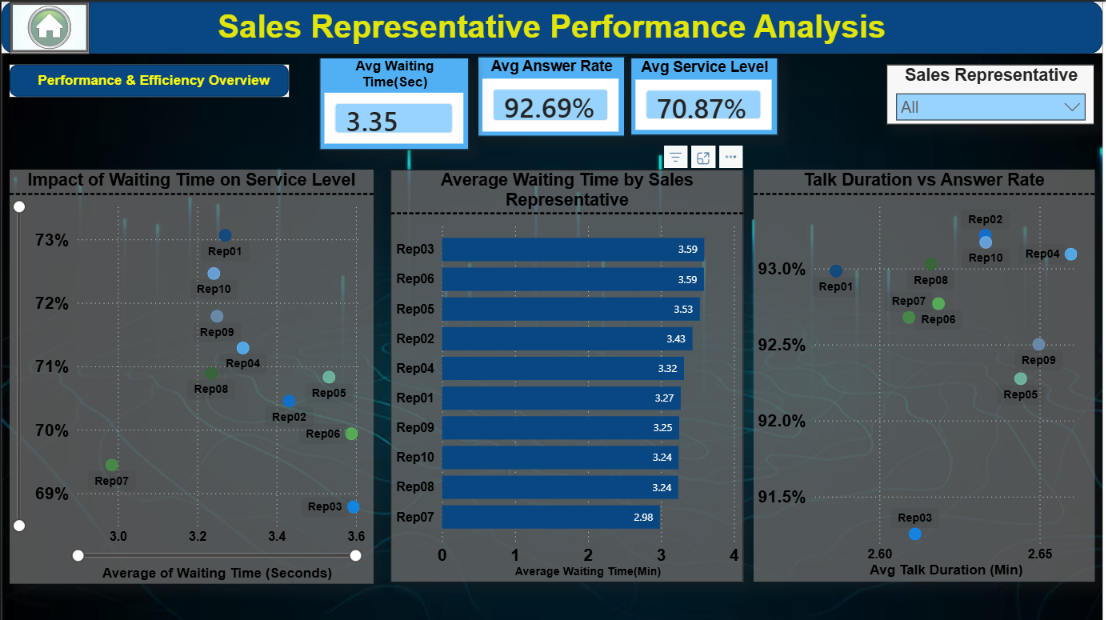

The page's visual inventory and layout, read from the dashboard file:
{"tool":"powerbi","page":{"name":"Response Analysis","canvas":[1280,720],"ordinal":4},"visuals":[{"type":"group","id":"g1","title":"Group 1","box":[0,0,1280.3,60.4],"z":0},{"type":"shape","box":[0,0,1280.3,60.4],"z":0,"group":"g1"},{"type":"shape","box":[9.3,73.3,324.4,37.2],"z":0,"group":"g2"},{"type":"textbox","box":[9.6,0,1261.1,60.4],"z":1000,"group":"g1"},{"type":"cardVisual","title":"Avg Answer Rate","fields":{"Data":["Call Center Data.Avg Answer Rate"]},"box":[553.5,64,170.9,93],"z":1000},{"type":"textbox","box":[25.2,76.1,298.5,32.6],"z":1000,"group":"g2"},{"type":"cardVisual","title":"Avg Service Level","fields":{"Data":["Call Center Data.Avg Service Level"]},"box":[731.4,65.1,170.9,90.7],"z":2000},{"type":"slicer","title":"Sales Representative","fields":{"Values":["Call Center Data.Sales Rep"]},"box":[1029.1,73.3,241.9,69.8],"z":3000},{"type":"cardVisual","title":"Avg Waiting Time(Sec)","fields":{"Data":["Avg(Call Center Data.Waiting Time (Seconds))"]},"box":[369.8,65.1,173.3,107],"z":4000},{"type":"group","id":"g2","title":"Group 1","box":[9.3,73.3,324.4,37.2],"z":5000},{"type":"scatterChart","title":"Impact of Waiting Time on Service Level","fields":{"X":["Avg(Call Center Data.Waiting Time (Seconds))"],"Y":["Call Center Data.Avg Service Level"],"Series":["Call Center Data.Sales Rep"]},"box":[9.3,195.3,423.3,481.4],"z":6000},{"type":"clusteredBarChart","title":"Average Waiting Time by Sales Representative","fields":{"Category":["Call Center Data.Sales Rep"],"Y":["Avg(Call Center Data.Waiting Time (Seconds))"]},"box":[452.3,195.3,410.5,480.2],"z":7000},{"type":"scatterChart","title":"Talk Duration vs Answer Rate","fields":{"X":["Call Center Data.Avg Talk Duration"],"Y":["Call Center Data.Avg Answer Rate"],"Series":["Call Center Data.Sales Rep"]},"box":[874.4,195.3,396.5,479.1],"z":8000},{"type":"actionButton","box":[9.3,0,93,60.5],"z":9000}]}

Visuals, with their boxes in screenshot pixels (x1, y1, x2, y2), scaled from the page's 1280x720 canvas onto the 1106x620 screenshot:
"Group 1" group: left=0, top=0, right=1105, bottom=52
shape: left=0, top=0, right=1105, bottom=52
shape: left=8, top=63, right=288, bottom=95
textbox: left=8, top=0, right=1098, bottom=52
"Avg Answer Rate" cardVisual: left=478, top=55, right=626, bottom=135
textbox: left=22, top=66, right=280, bottom=94
"Avg Service Level" cardVisual: left=632, top=56, right=780, bottom=134
"Sales Representative" slicer: left=889, top=63, right=1098, bottom=123
"Avg Waiting Time(Sec)" cardVisual: left=320, top=56, right=469, bottom=148
"Group 1" group: left=8, top=63, right=288, bottom=95
"Impact of Waiting Time on Service Level" scatterChart: left=8, top=168, right=374, bottom=583
"Average Waiting Time by Sales Representative" clusteredBarChart: left=391, top=168, right=746, bottom=582
"Talk Duration vs Answer Rate" scatterChart: left=756, top=168, right=1098, bottom=581
actionButton: left=8, top=0, right=88, bottom=52
